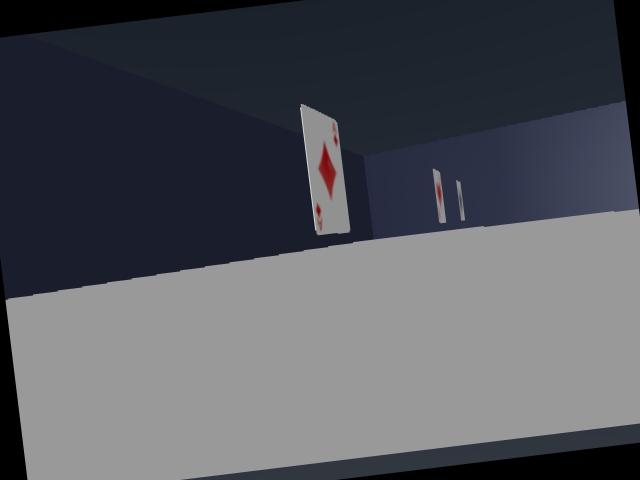diamond: (300, 105, 349, 234), (433, 169, 445, 223)
